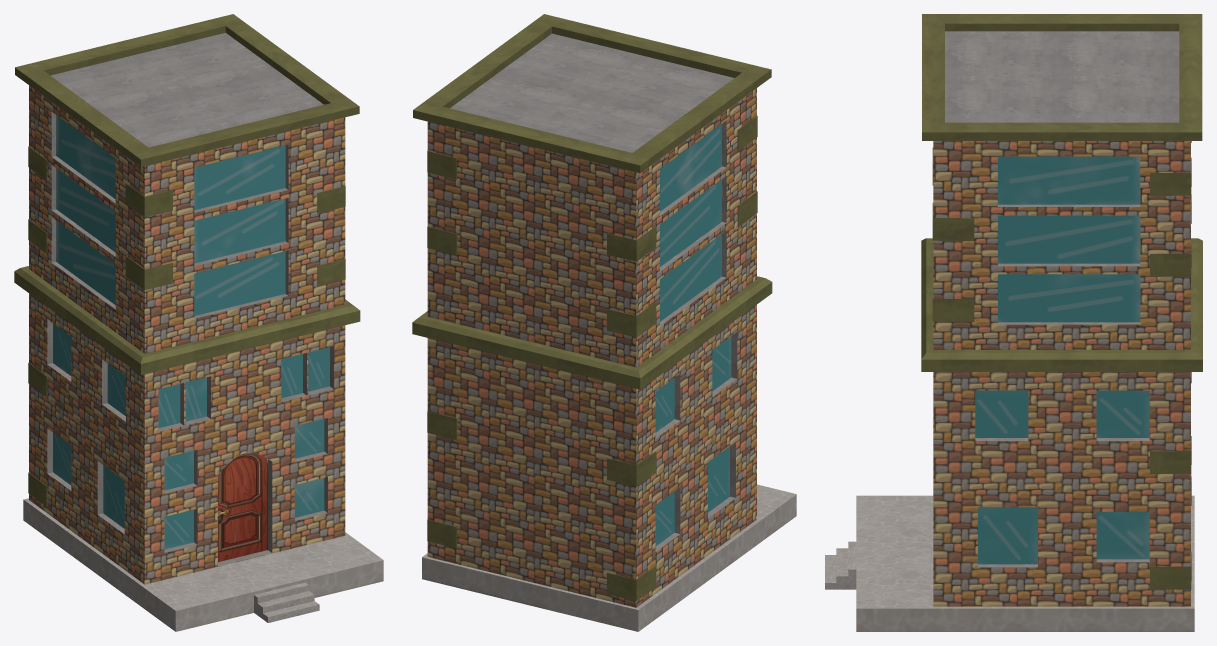
The model's file is cartoon_building.gltf.
The picture shows the model from 3 angles, left to right: view 1: azimuth 30°, elevation 25°; view 2: azimuth 150°, elevation 25°; view 3: azimuth 270°, elevation 25°; orthographic projection. The views are drawn at different scales.
Visible parts, largest first — view 1: cartoon_building; view 2: cartoon_building; view 3: cartoon_building.
Boxes of the visible parts, x1,y1,x2,y2 form: cartoon_building: [14, 14, 383, 631]; cartoon_building: [412, 14, 796, 631]; cartoon_building: [825, 14, 1202, 631].
Bounding box in the file's own units: 67.46 × 133 × 90.51.
Materials: 1 (1 with a texture image).
